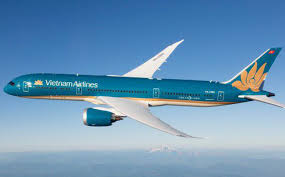maybay_dansu: (1, 39, 285, 133)
